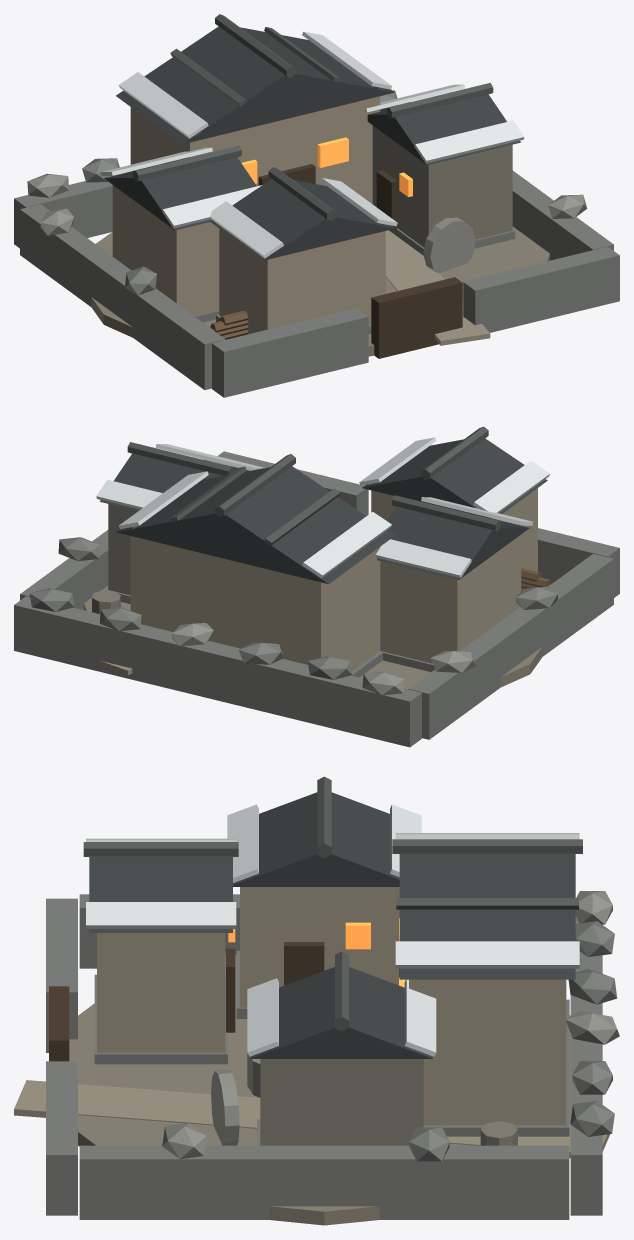
File: village-neutral.glb
The picture shows the model from 3 angles, top to bottom: view 1: azimuth 30°, elevation 25°; view 2: azimuth 150°, elevation 25°; view 3: azimuth 270°, elevation 25°; orthographic projection. The views are drawn at different scales.
Visible parts, largest first — view 1: TH_VillageNeutral_MainHouse_Roof, TH_VillageNeutral_FrontHouse_Walls, TH_VillageNeutral_Wall_1, TH_VillageNeutral_MainHouse_Walls, TH_VillageNeutral_RightHouse_Walls, TH_VillageNeutral_Wall_3, TH_VillageNeutral_Wall_4, TH_VillageNeutral_LeftHouse_Walls, TH_VillageNeutral_FrontHouse_Roof, TH_VillageNeutral_Gate, TH_VillageNeutral_LeftHouse_Roof, TH_VillageNeutral_RightHouse_Roof (+28 smaller); view 2: TH_VillageNeutral_Wall_0, TH_VillageNeutral_MainHouse_Walls, TH_VillageNeutral_MainHouse_Roof, TH_VillageNeutral_LeftHouse_Walls, TH_VillageNeutral_Wall_1, TH_VillageNeutral_FrontHouse_Roof, TH_VillageNeutral_LeftHouse_Roof, TH_VillageNeutral_Wall_2, TH_VillageNeutral_Wall_3, TH_VillageNeutral_MainHouse_SnowEdge_-1, TH_VillageNeutral_RightHouse_Roof, TH_VillageNeutral_FrontHouse_Walls (+27 smaller); view 3: TH_VillageNeutral_Wall_2, TH_VillageNeutral_MainHouse_Walls, TH_VillageNeutral_MainHouse_Roof, TH_VillageNeutral_FrontHouse_Walls, TH_VillageNeutral_RightHouse_Walls, TH_VillageNeutral_LeftHouse_Walls, TH_VillageNeutral_CourtyardGround, TH_VillageNeutral_LeftHouse_Roof, TH_VillageNeutral_RightHouse_Roof, TH_VillageNeutral_FrontHouse_Roof, TH_VillageNeutral_Lane, TH_VillageNeutral_MainHouse_SnowEdge_+1 (+31 smaller).
Boxes of the visible parts, x1,y1,x2,y2 form: TH_VillageNeutral_MainHouse_Roof: (116, 26, 394, 144); TH_VillageNeutral_FrontHouse_Walls: (219, 229, 385, 334); TH_VillageNeutral_Wall_1: (20, 204, 225, 389); TH_VillageNeutral_MainHouse_Walls: (130, 96, 380, 203); TH_VillageNeutral_RightHouse_Walls: (372, 125, 512, 247); TH_VillageNeutral_Wall_3: (212, 308, 368, 397); TH_VillageNeutral_Wall_4: (463, 246, 619, 332); TH_VillageNeutral_LeftHouse_Walls: (112, 185, 219, 315); TH_VillageNeutral_FrontHouse_Roof: (210, 179, 395, 260); TH_VillageNeutral_Gate: (371, 277, 462, 358); TH_VillageNeutral_LeftHouse_Roof: (104, 157, 256, 230); TH_VillageNeutral_RightHouse_Roof: (367, 94, 520, 165); TH_VillageNeutral_Wall_0: (14, 596, 421, 747); TH_VillageNeutral_MainHouse_Walls: (130, 536, 380, 671); TH_VillageNeutral_MainHouse_Roof: (116, 466, 394, 584); TH_VillageNeutral_LeftHouse_Walls: (380, 535, 521, 663); TH_VillageNeutral_Wall_1: (408, 554, 613, 739); TH_VillageNeutral_FrontHouse_Roof: (362, 438, 547, 519); TH_VillageNeutral_LeftHouse_Roof: (377, 507, 529, 579); TH_VillageNeutral_Wall_2: (20, 459, 224, 610); TH_VillageNeutral_Wall_3: (538, 528, 619, 597); TH_VillageNeutral_MainHouse_SnowEdge_-1: (302, 512, 391, 578); TH_VillageNeutral_RightHouse_Roof: (99, 453, 248, 511); TH_VillageNeutral_FrontHouse_Walls: (371, 488, 537, 571); TH_VillageNeutral_Wall_2: (79, 1145, 569, 1219); TH_VillageNeutral_MainHouse_Walls: (409, 979, 566, 1125); TH_VillageNeutral_MainHouse_Roof: (399, 853, 575, 979); TH_VillageNeutral_FrontHouse_Walls: (97, 933, 225, 1052); TH_VillageNeutral_RightHouse_Walls: (260, 1059, 423, 1145); TH_VillageNeutral_LeftHouse_Walls: (240, 887, 399, 1007); TH_VillageNeutral_CourtyardGround: (69, 955, 570, 1225); TH_VillageNeutral_LeftHouse_Roof: (233, 792, 399, 886); TH_VillageNeutral_RightHouse_Roof: (250, 967, 433, 1058); TH_VillageNeutral_FrontHouse_Roof: (89, 856, 232, 932); TH_VillageNeutral_Lane: (14, 1080, 610, 1158); TH_VillageNeutral_MainHouse_SnowEdge_+1: (395, 941, 579, 968).
Bounding box in the file's own units: 1.14 × 0.47 × 1.04.
